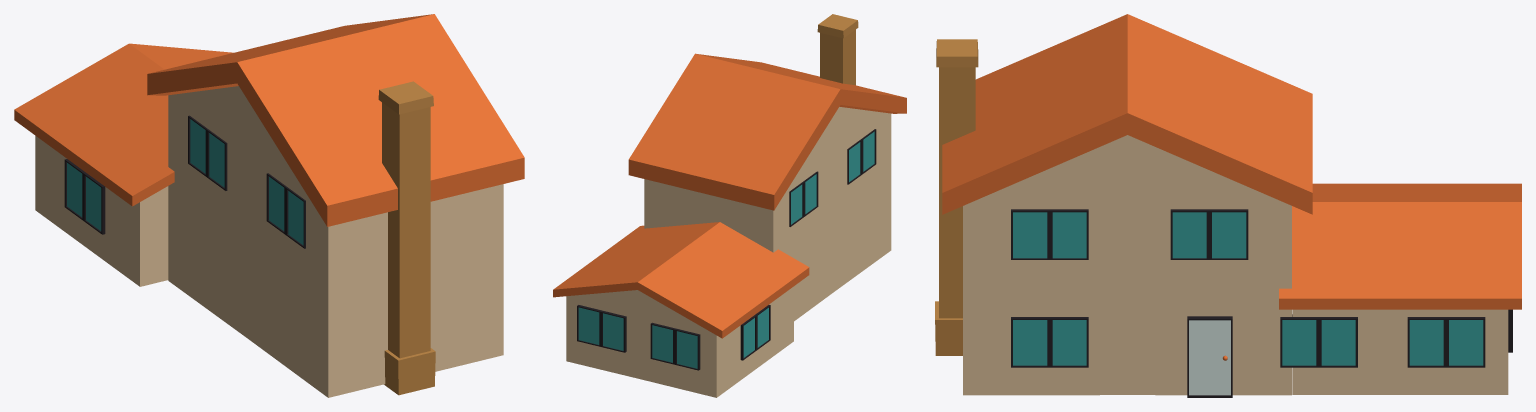
File: house4.fbx
The picture shows the model from 3 angles, left to right: view 1: azimuth 30°, elevation 25°; view 2: azimuth 150°, elevation 25°; view 3: azimuth 270°, elevation 25°; orthographic projection. The views are drawn at different scales.
Parts seen in each view (by area): view 1: Plane, Plane.001, Plane.002, Cube, Plane.003, Cube.009, Cube.007, Cube.008; view 2: Plane.001, Plane, Plane.002, Plane.003, Cube, Cube.006, Cube.003, Cube.009, Cube.007, Cube.008; view 3: Plane, Plane.001, Plane.002, Plane.003, Cube, Cube.005, Cube.010, Cube.011, Cube.002, Cube.004, Cube.001.
Part boxes in pixels (box(x1,y1,x2,y2)): Plane: box(168, 86, 503, 397); Plane.001: box(147, 14, 524, 226); Plane.002: box(14, 43, 233, 206); Cube: box(378, 81, 435, 395); Plane.003: box(35, 136, 168, 286); Cube.009: box(64, 159, 105, 234); Cube.007: box(188, 115, 227, 190); Cube.008: box(266, 173, 305, 248); Plane.001: box(628, 53, 906, 210); Plane: box(644, 107, 891, 321); Plane.002: box(553, 222, 809, 338); Plane.003: box(566, 286, 793, 397); Cube: box(817, 14, 858, 85); Cube.006: box(650, 322, 700, 370); Cube.003: box(577, 305, 626, 352); Cube.009: box(740, 305, 770, 360); Cube.007: box(789, 171, 818, 226); Cube.008: box(847, 129, 876, 184); Plane: box(963, 135, 1291, 395); Plane.001: box(942, 14, 1312, 214); Plane.002: box(1279, 183, 1521, 309); Plane.003: box(1292, 309, 1508, 394); Cube: box(935, 39, 978, 355); Cube.005: box(1170, 209, 1248, 259); Cube.010: box(1407, 317, 1485, 367); Cube.011: box(1280, 314, 1357, 367); Cube.002: box(1011, 317, 1088, 367); Cube.004: box(1011, 209, 1088, 259); Cube.001: box(1187, 316, 1232, 397).
Bounding box in the file's own units: 1483 × 1792 × 3191.
5 materials, 2 textured.
